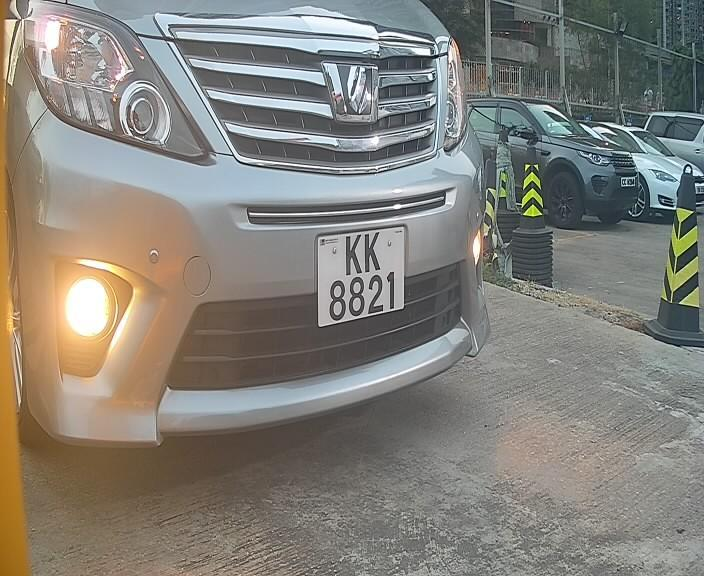privatecar: (7, 3, 519, 466)
